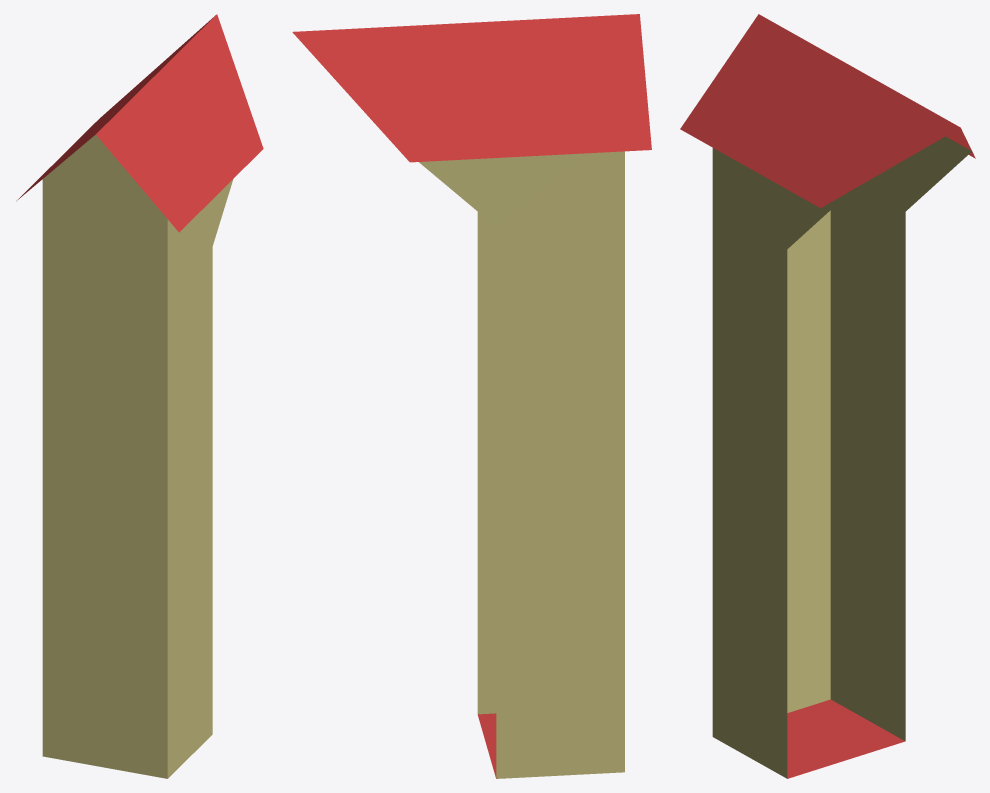
3 views of the same model, side by side, from view 1: azimuth 30°, elevation 25°; view 2: azimuth 150°, elevation 25°; view 3: azimuth 270°, elevation 25° (orthographic). The views are drawn at different scales.
Size of the model in its own units: 6.99 by 6.34 by 16.44.
